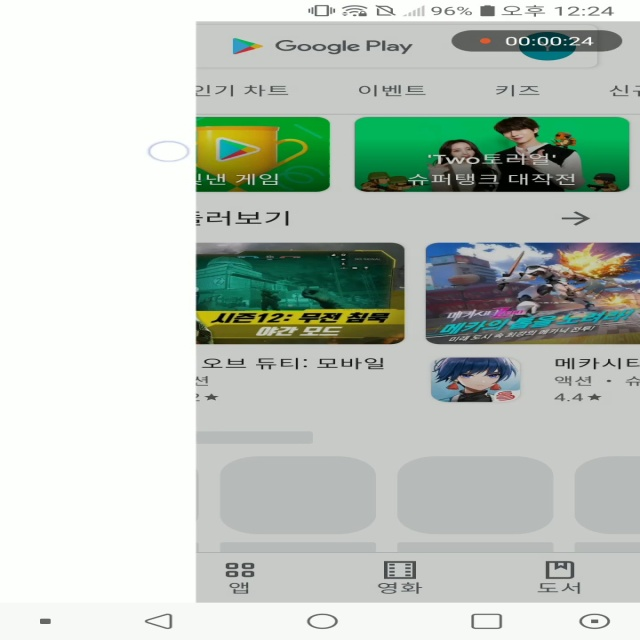Cursor: (147, 141, 192, 163)
